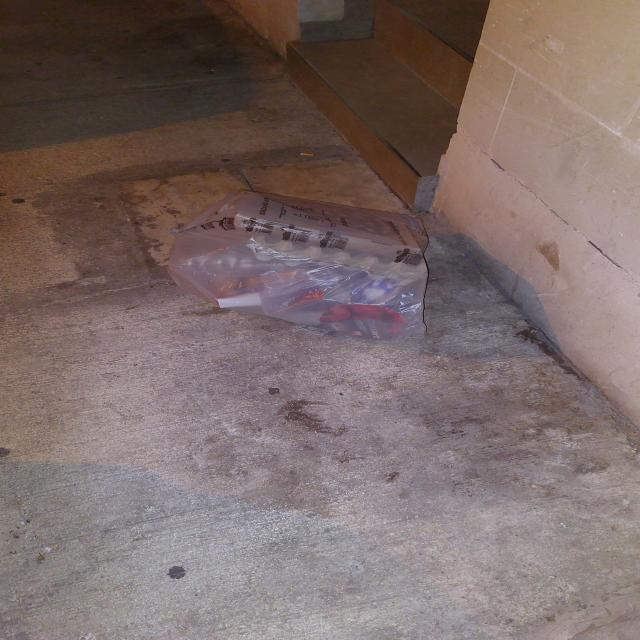Organic Waste -White Bag-: (162, 194, 446, 349)
